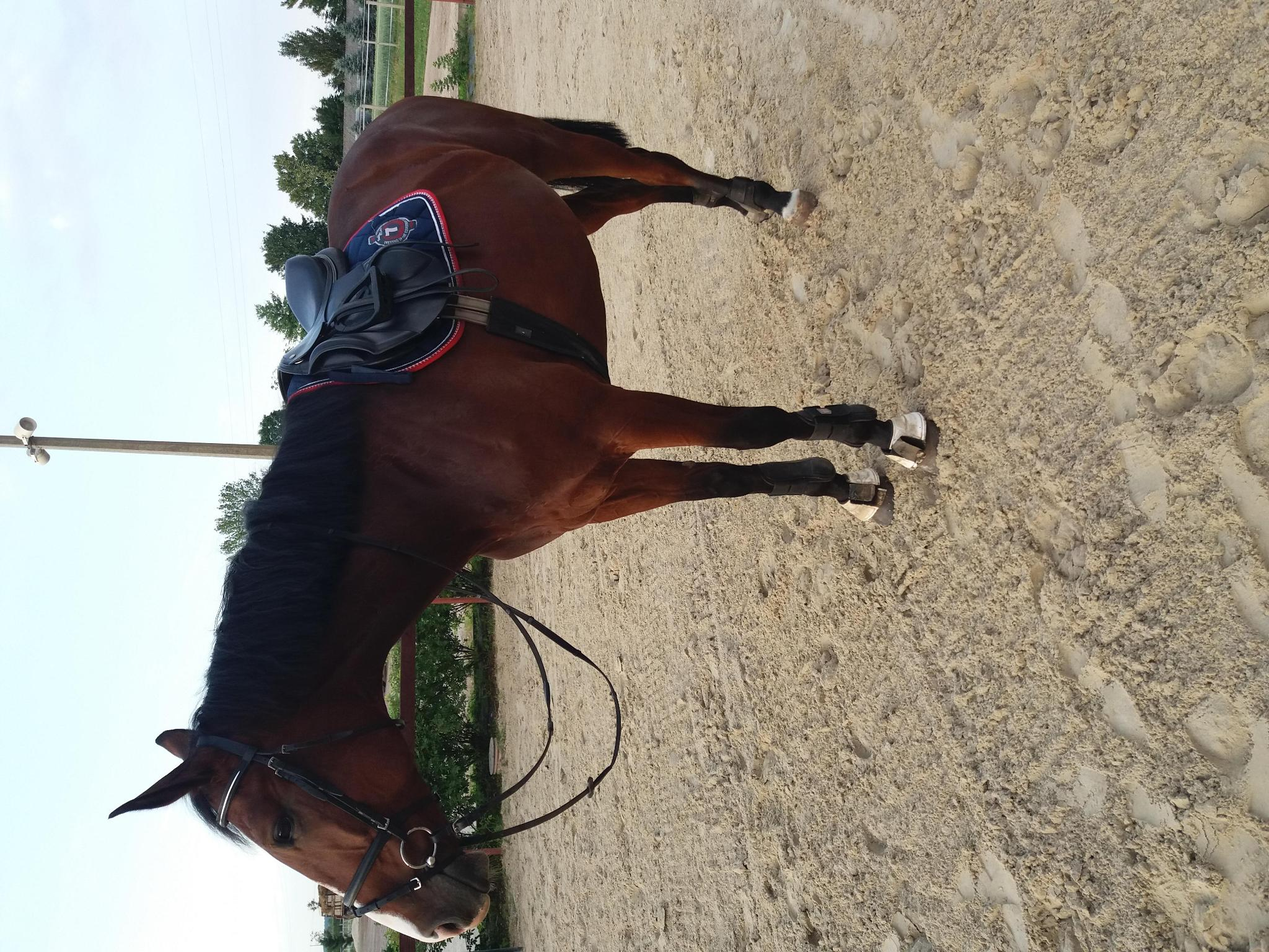horse: (107, 93, 937, 944)
